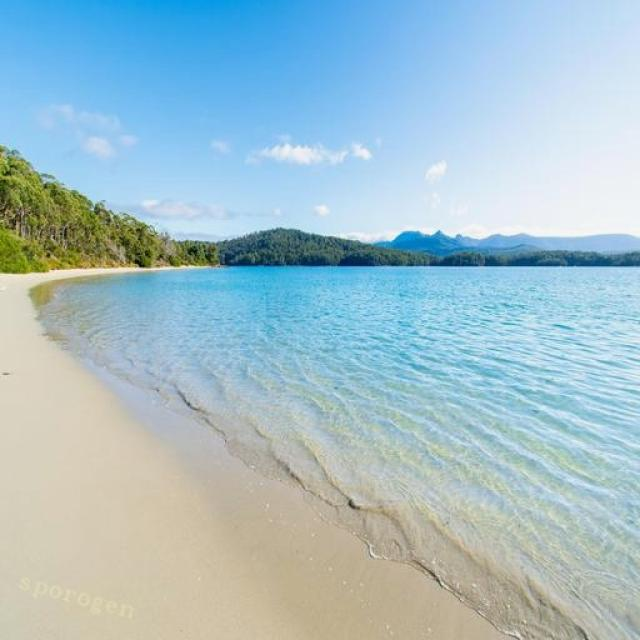watermark: (10, 569, 151, 622)
